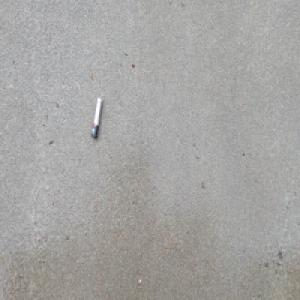Battery: (90, 95, 102, 139)
